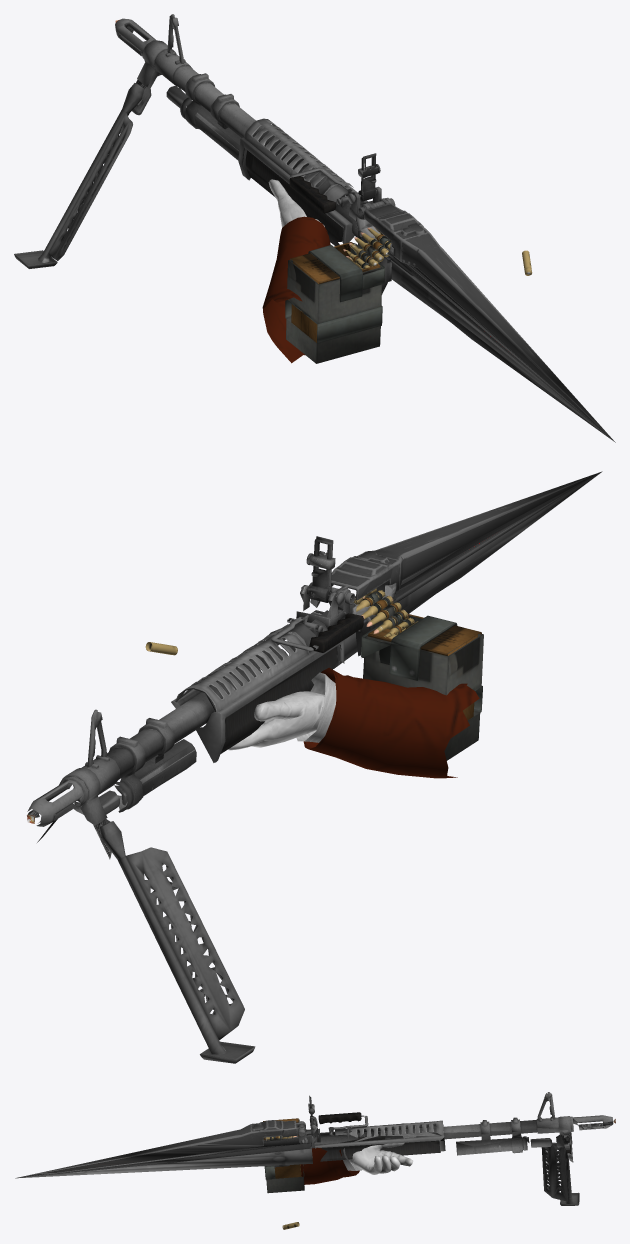
File: frame_27.obj
3 views of the same model, one above another, from view 1: azimuth 30°, elevation 25°; view 2: azimuth 150°, elevation 25°; view 3: azimuth 270°, elevation 25° (orthographic). The views are drawn at different scales.
Visible parts, largest first — view 1: Mesh.005, PlayerModelMerged.001_PlayerModelMerged, Mesh.001; view 2: Mesh.005, PlayerModelMerged.001_PlayerModelMerged, Mesh.001; view 3: Mesh.005, PlayerModelMerged.001_PlayerModelMerged.
Boxes of the visible parts, box(x1,y1,x2,y2) form: Mesh.005: box(14, 14, 615, 442); PlayerModelMerged.001_PlayerModelMerged: box(262, 179, 330, 363); Mesh.001: box(343, 227, 391, 268); Mesh.005: box(27, 471, 602, 1063); PlayerModelMerged.001_PlayerModelMerged: box(228, 667, 479, 778); Mesh.001: box(355, 590, 414, 637); Mesh.005: box(15, 1092, 613, 1205); PlayerModelMerged.001_PlayerModelMerged: box(300, 1142, 413, 1184).
Size of the model in its own units: 0.8107 by 0.6137 by 2.27.
